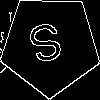S: (25, 20, 69, 74)
